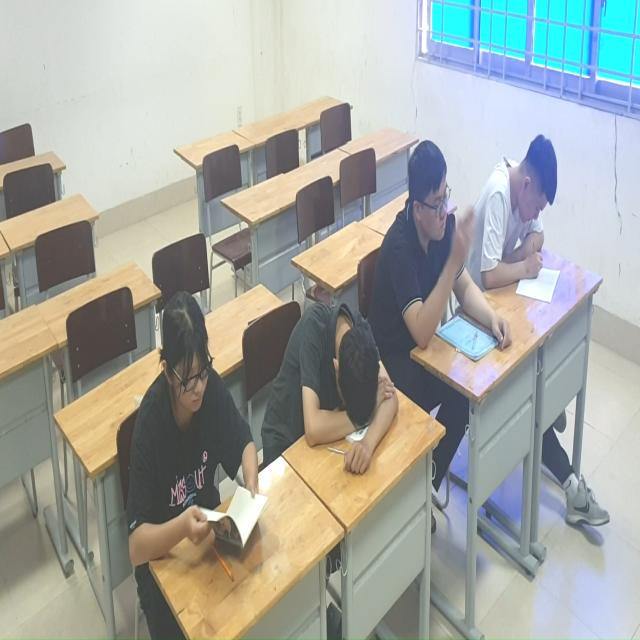raise_hand: (385, 138, 485, 365)
read: (121, 287, 268, 566), (480, 129, 567, 316)
sleep: (268, 292, 405, 479)
